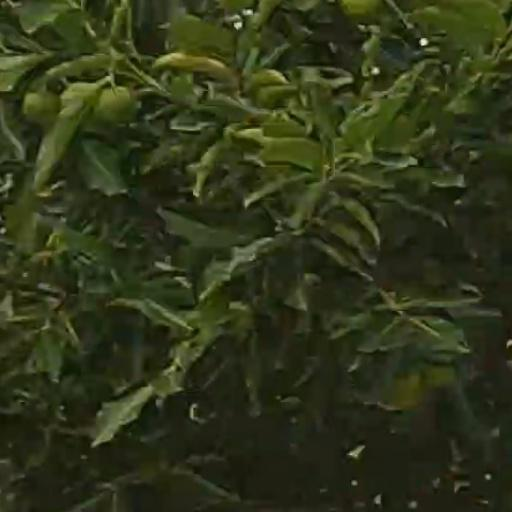acerola_verde: (98, 88, 137, 123), (24, 94, 56, 122)
